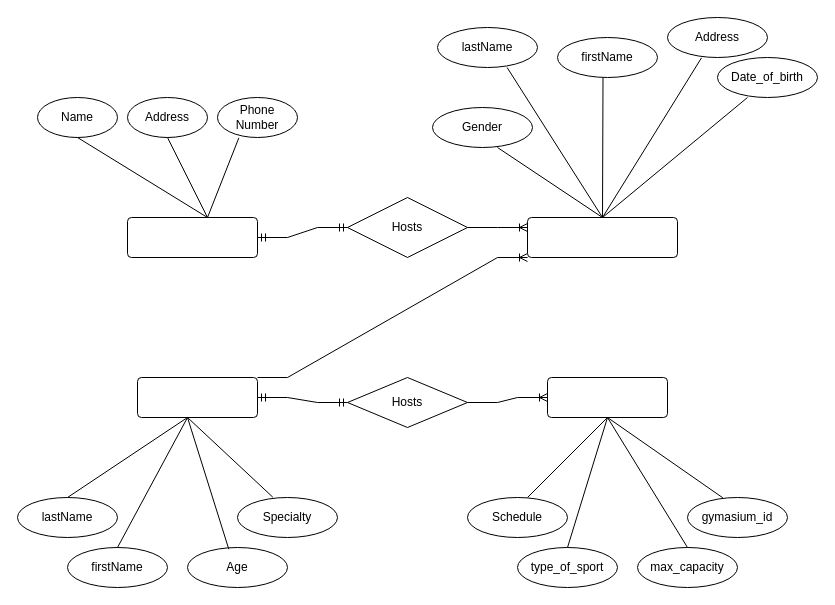
Image size: 835x605. Some labels were removed from this diagram. Here are the shapes that lost their labels. From the top down, the centre of each, then its label:
At pixel 192 237: "Gymnasium".
At pixel 602 237: "Member".
At pixel 197 397: "Coach".
At pixel 607 397: "Sessions".
